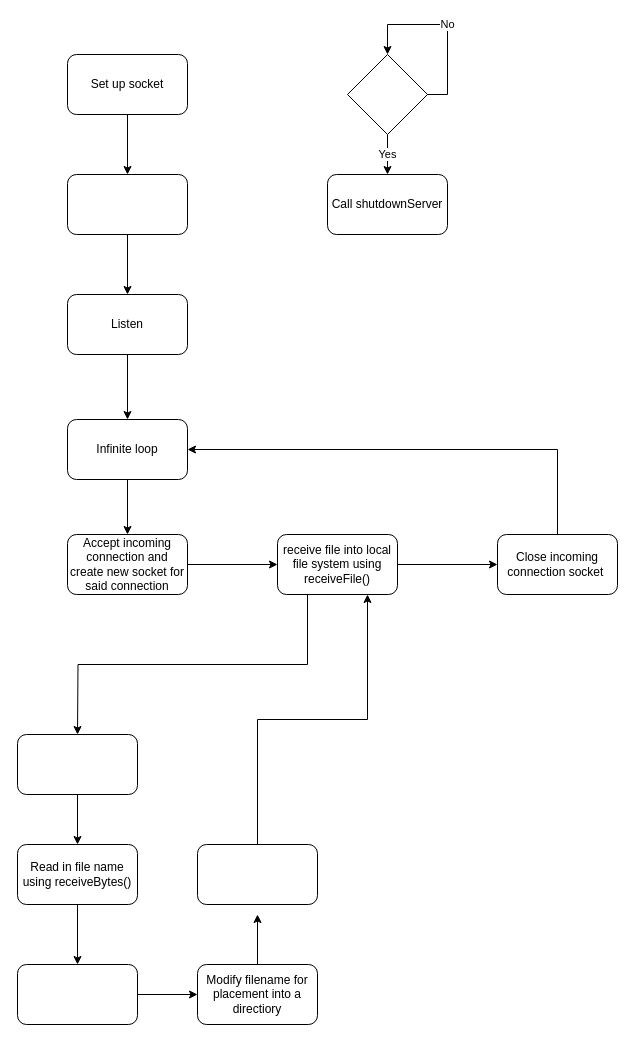
This 635x1042 diagram has some shape labels left out. The box of each missing label's shape, as (x1, y1, x2, y2) in pixels:
Bind socket: (66, 174, 188, 234)
Open a new file on the local file system and write sent file contents into it: (196, 844, 318, 904)
Read in file contents using receiveBytes(): (16, 964, 138, 1024)
receiveFile(): (16, 734, 138, 794)
SIGINT received?: (346, 54, 428, 134)
